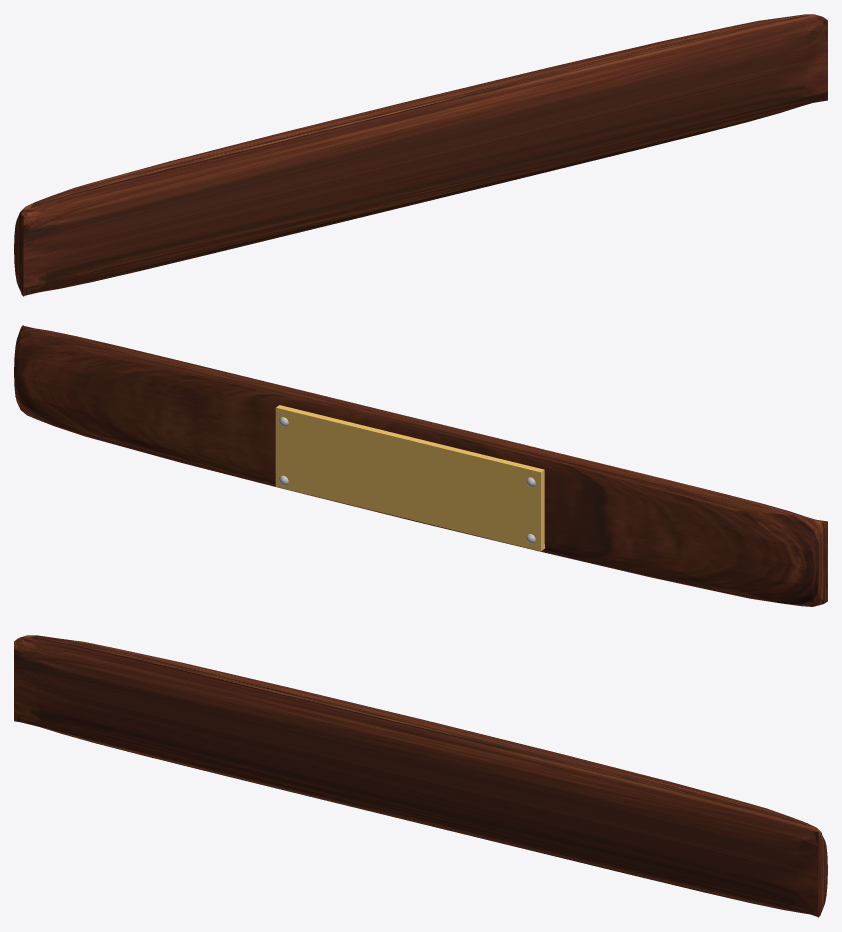
File: EotM_Plaque.fbx
3 views of the same model, one above another, from view 1: azimuth 30°, elevation 25°; view 2: azimuth 150°, elevation 25°; view 3: azimuth 330°, elevation 25° (orthographic).
Parts seen in each view (by area): view 1: Cube; view 2: Cube, Cube.001; view 3: Cube.
Part boxes in pixels (box(x1,y1,x2,y2)): Cube: box(14, 14, 827, 296); Cube: box(14, 325, 827, 606); Cube.001: box(275, 405, 545, 551); Cube: box(14, 635, 827, 917).
Size of the model in its own units: 200 by 23.93 by 8.29.
